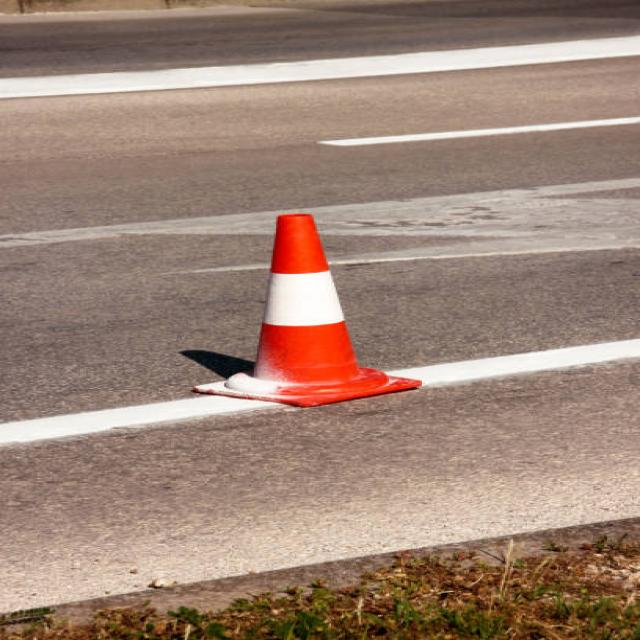Traffic Cone: (144, 190, 460, 443)
